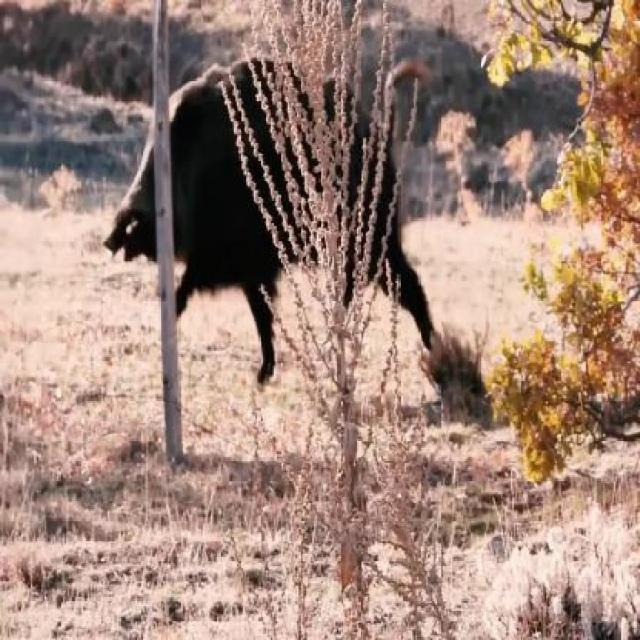WildBoar: (100, 40, 471, 403)
